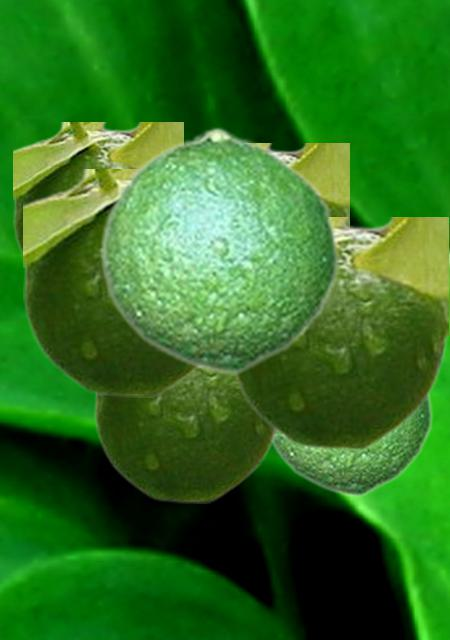dalandan: (98, 126, 339, 374), (230, 217, 447, 449), (23, 169, 198, 396), (94, 370, 279, 502), (13, 122, 182, 262), (272, 395, 432, 496), (261, 143, 348, 216)
